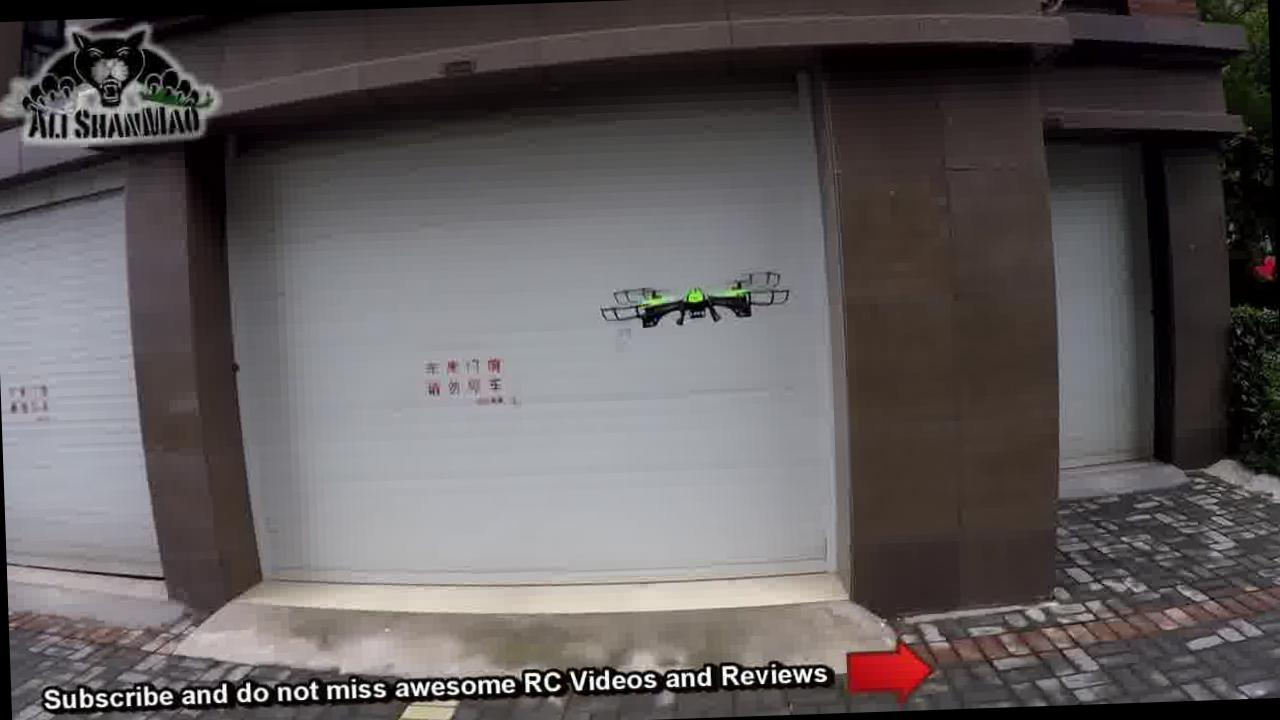drone: (588, 260, 808, 348)
